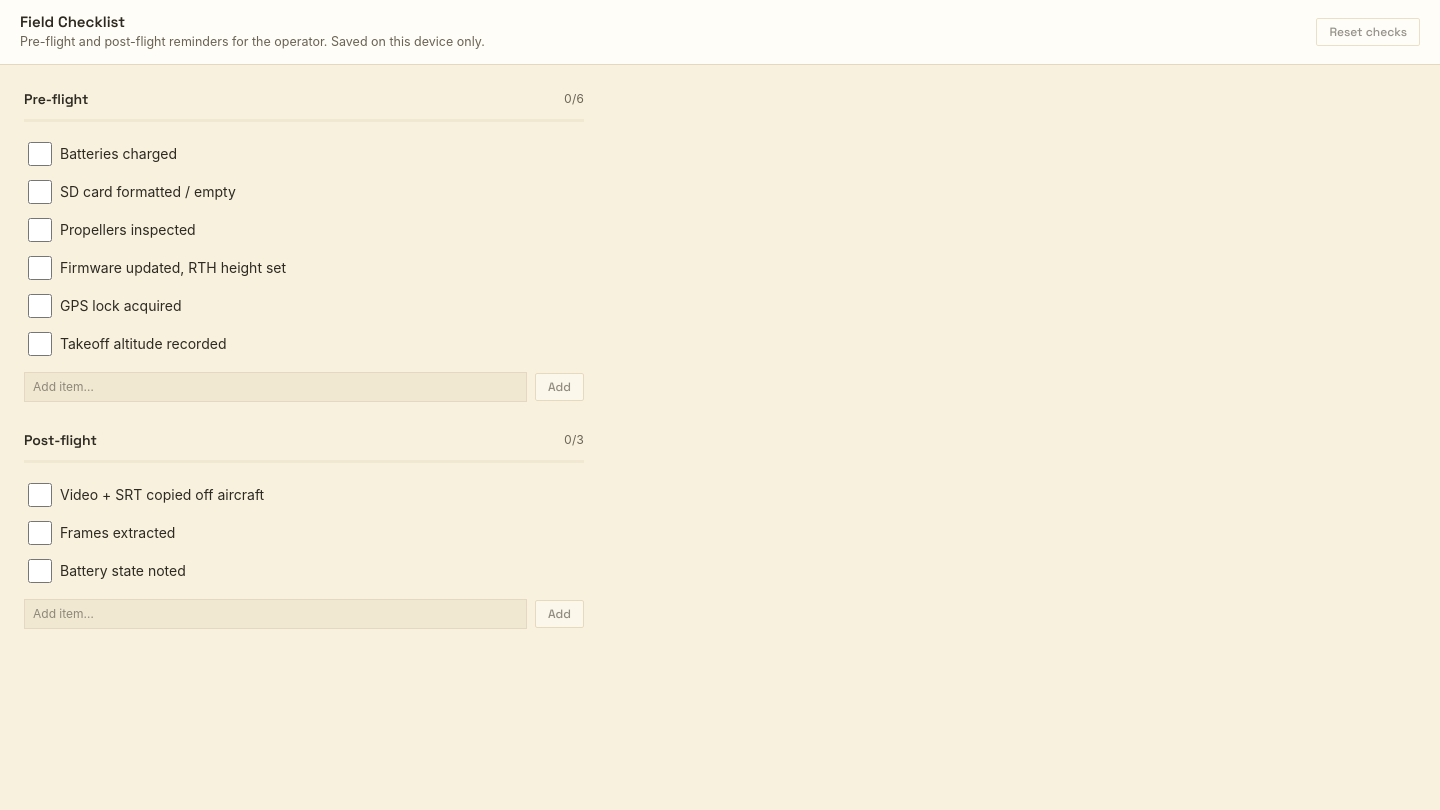
Scenario: adds, checks, resets, and removes a custom pre-flight reminder
Expected: the heading "Field Checklist" is shown, [20,12,125,31]
In the field named "Add pre-flight item": (276, 386) [24,372,527,402], type "Inspect propellers"
Then press Enter
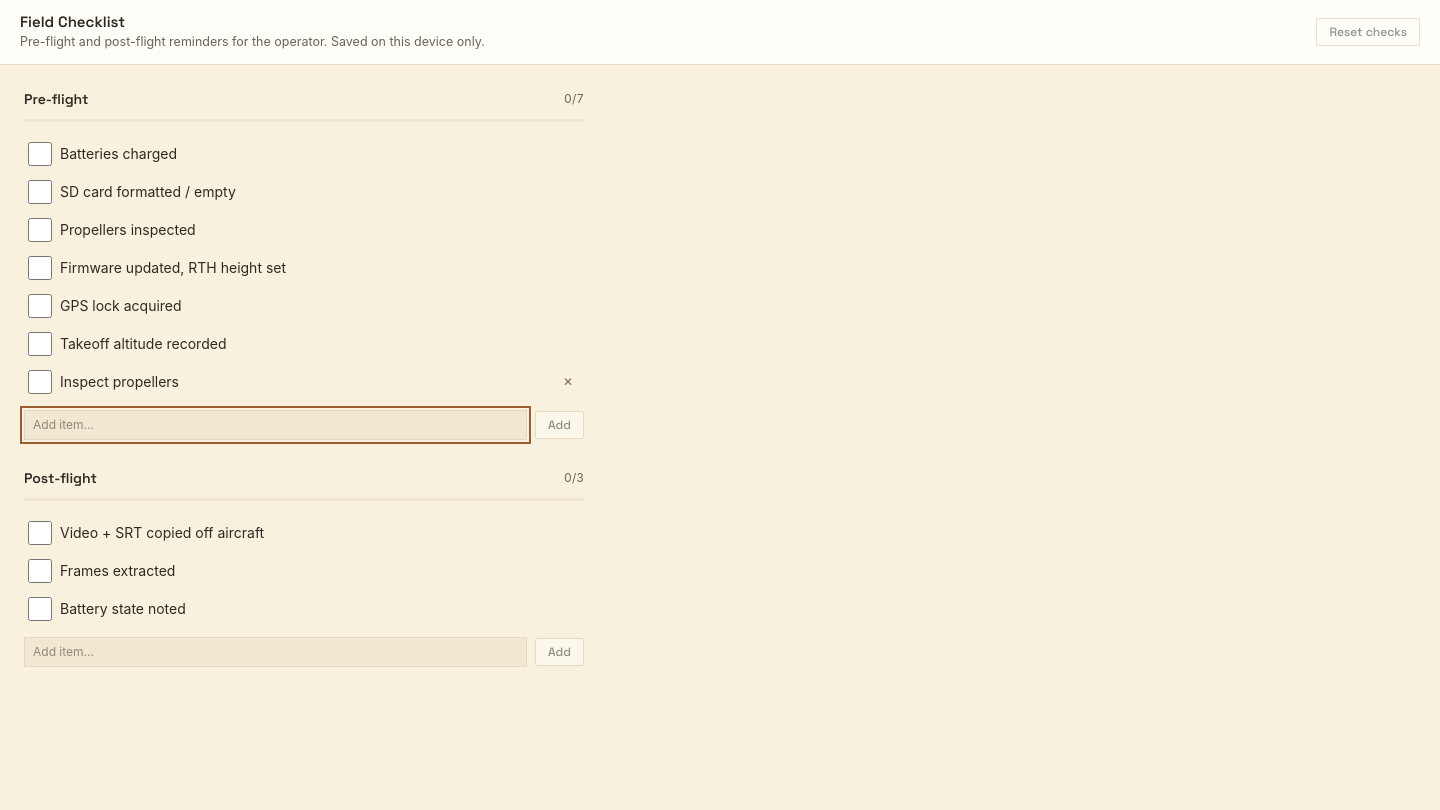
Click the checkbox labelled "Inspect propellers": (40, 382) [28,370,52,394]
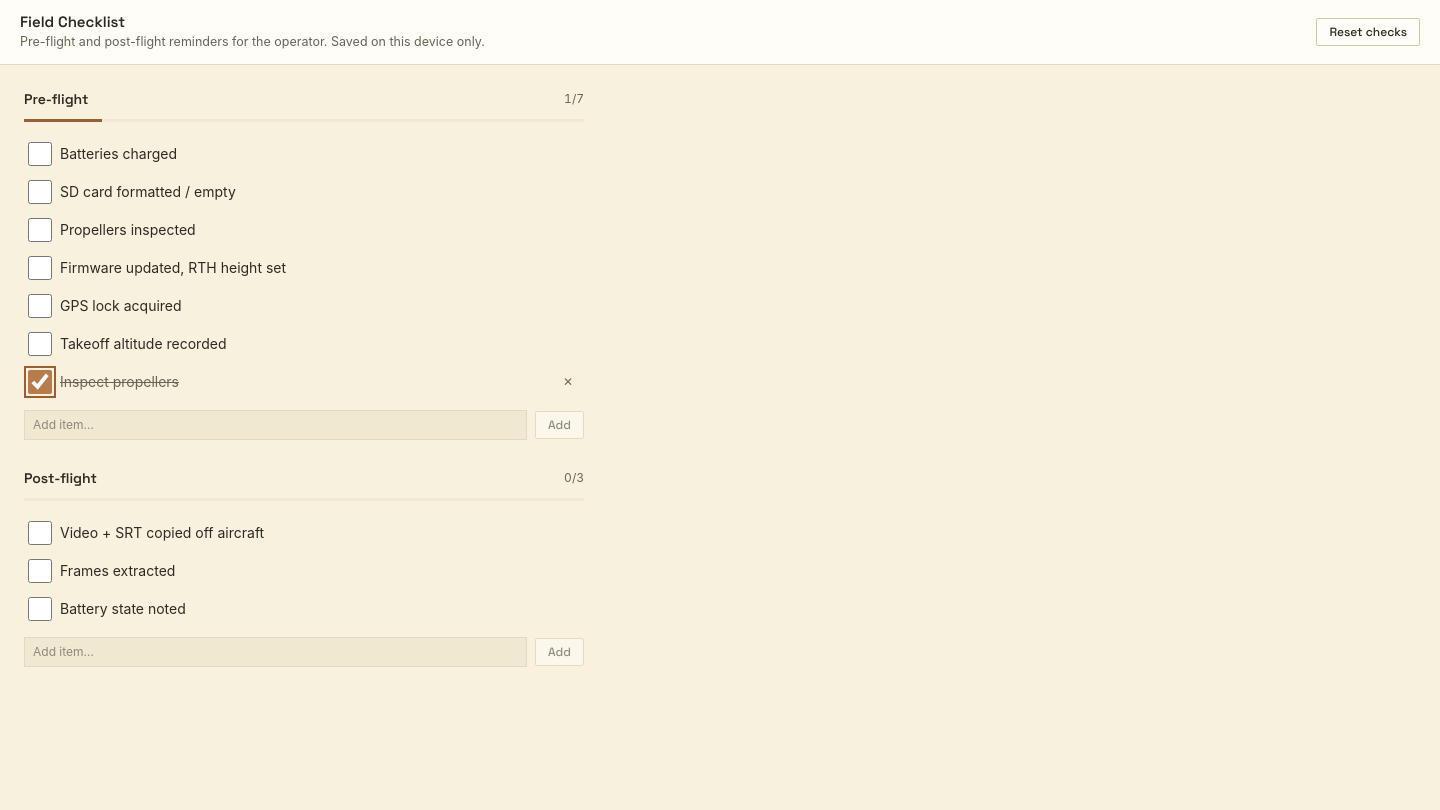
Result: the checkbox labelled "Inspect propellers" is checked at [28,370,52,394]
Click the button "Reset checks": (1368, 32) [1316,18,1420,46]
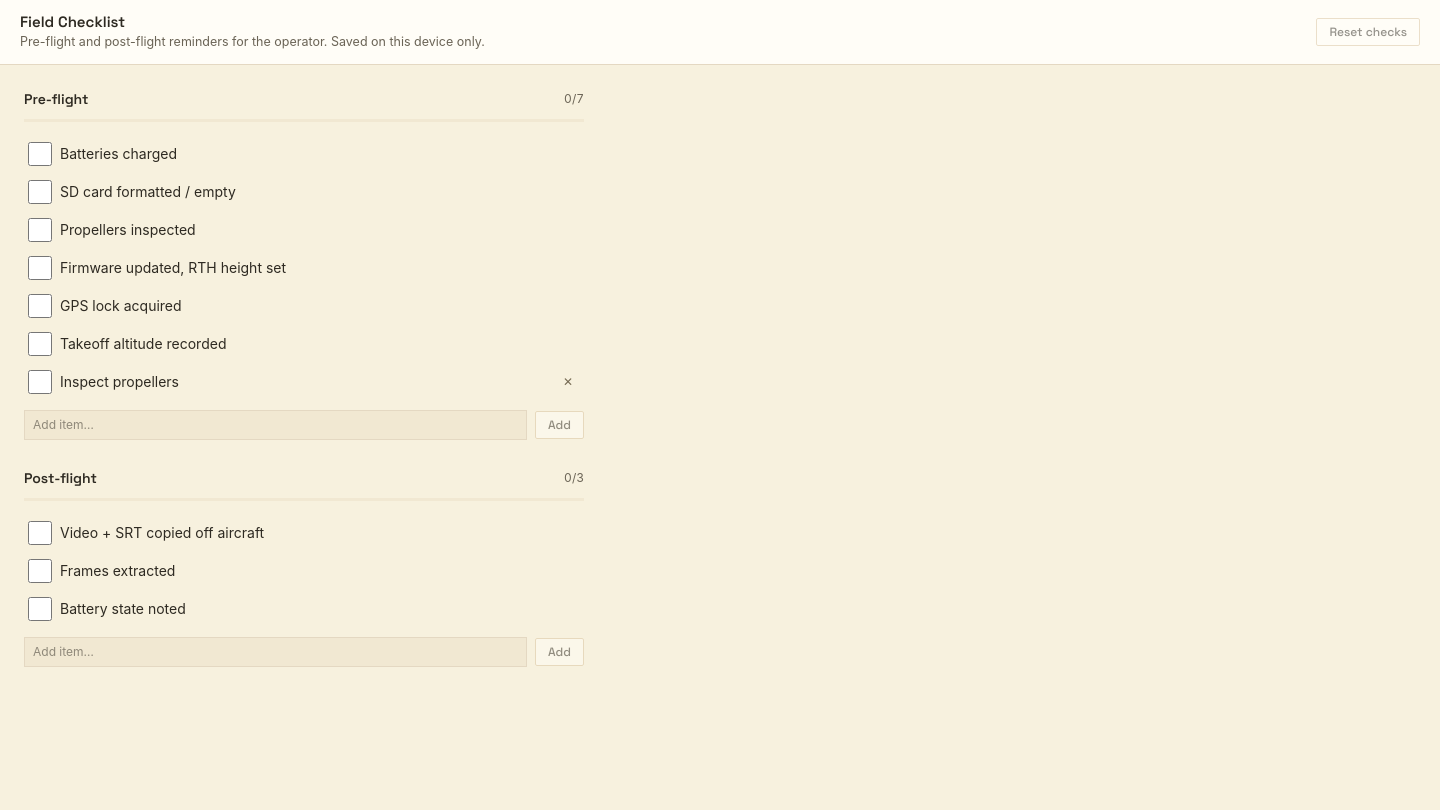
Result: the checkbox labelled "Inspect propellers" is not checked at [28,370,52,394]
Click the button named "Remove Inspect propellers": (568, 382) [556,370,580,394]
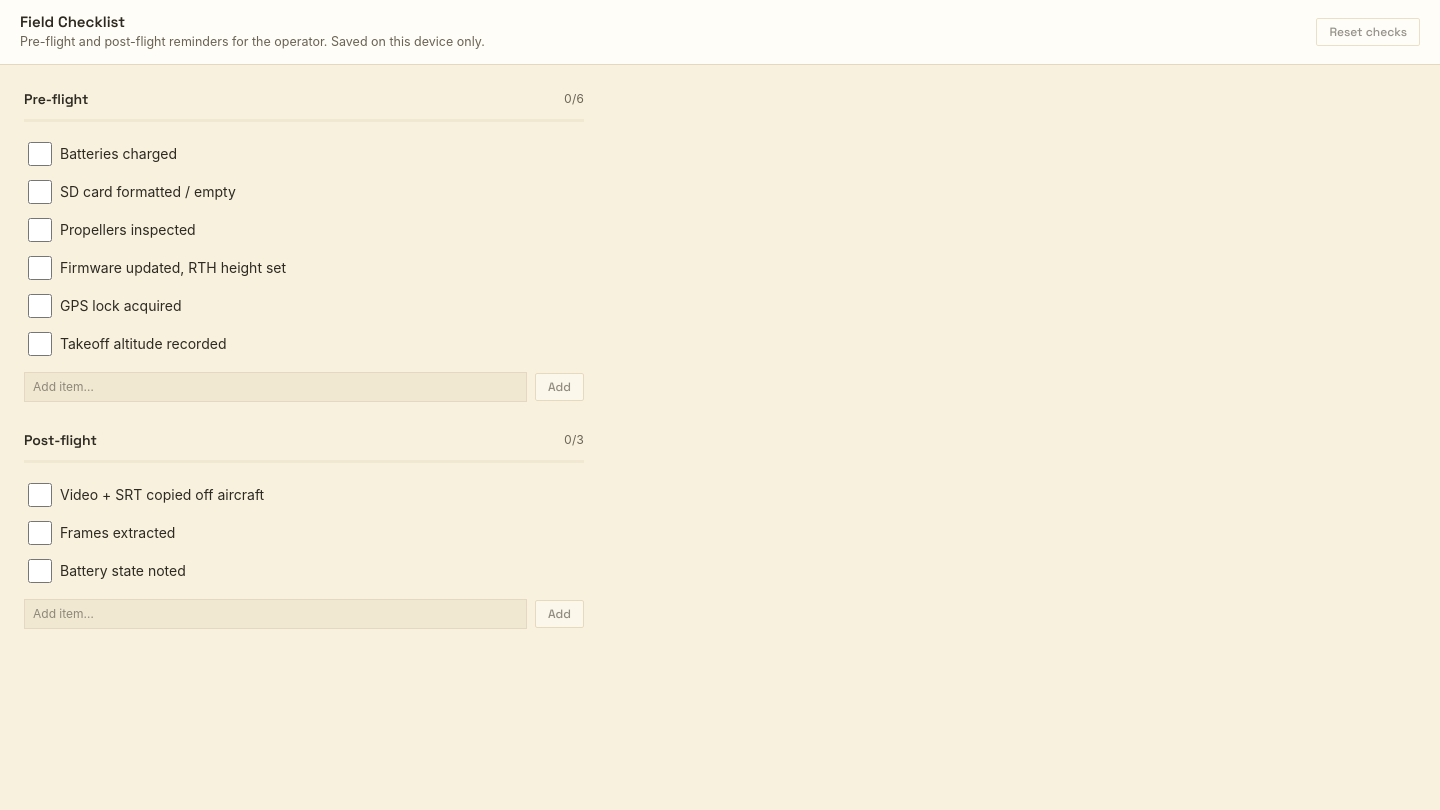
Result: the text "Inspect propellers" is gone
